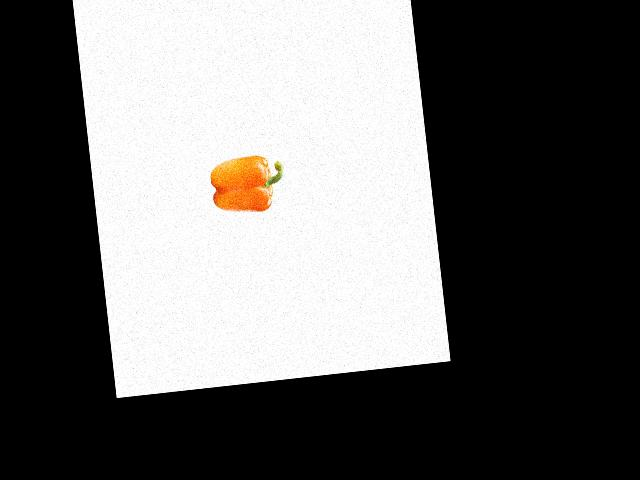bell_pepper: (207, 146, 288, 222)
